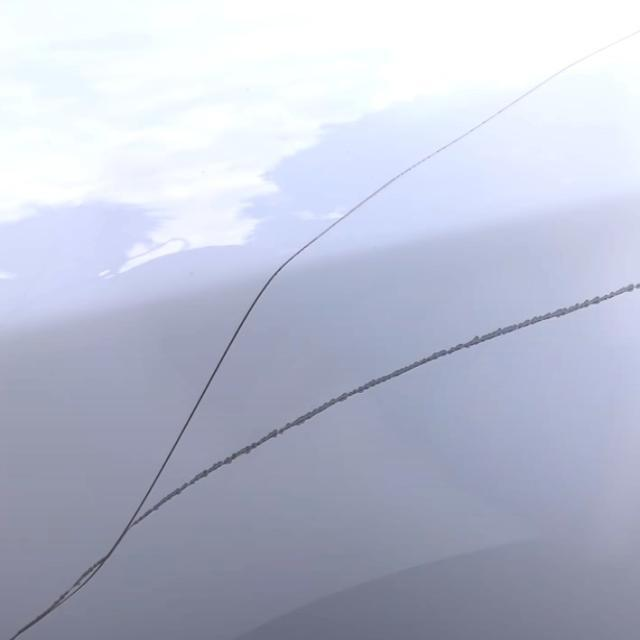crack: (160, 69, 475, 415), (222, 276, 556, 489)
